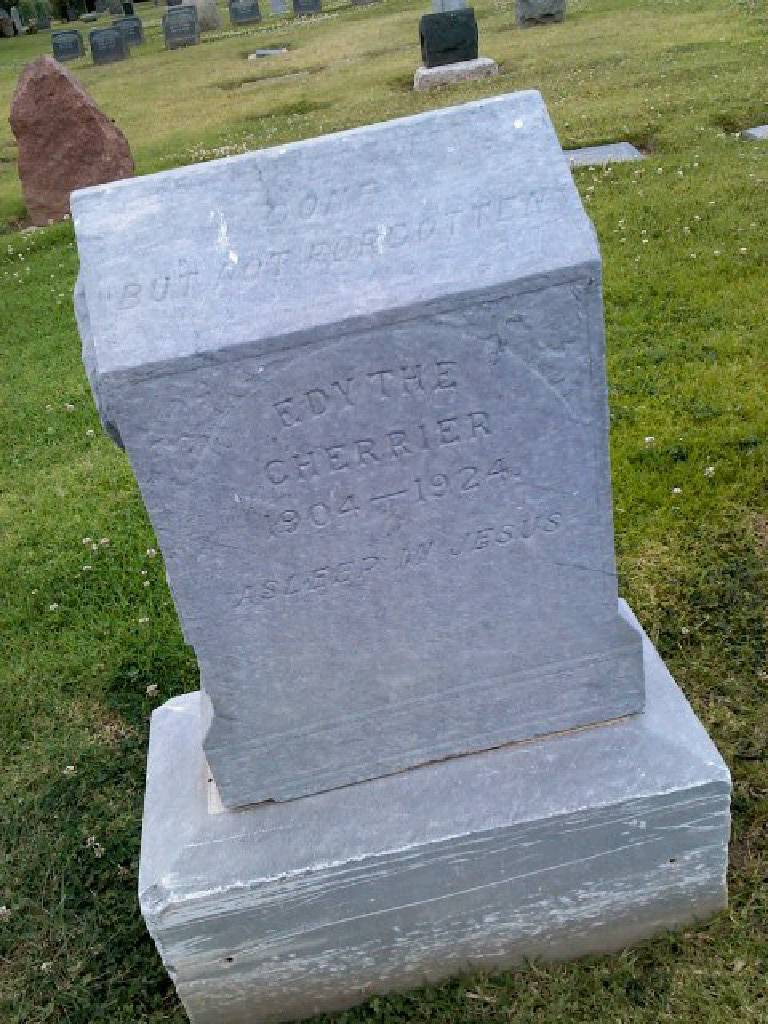upright: (61, 89, 747, 1024)
